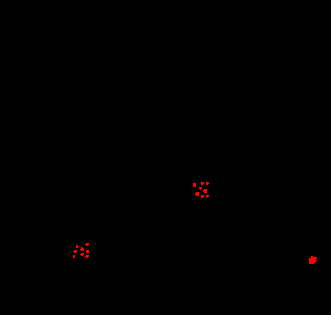Target: (309, 256, 317, 264), (203, 189, 207, 193), (195, 192, 199, 196), (80, 247, 84, 251), (193, 183, 196, 187), (85, 243, 89, 246), (73, 250, 77, 253), (80, 253, 84, 256), (85, 255, 89, 258), (201, 182, 204, 185), (206, 182, 209, 185), (199, 187, 202, 190), (201, 195, 204, 198), (206, 195, 209, 198), (76, 245, 79, 248), (86, 250, 89, 253), (73, 255, 75, 258)
